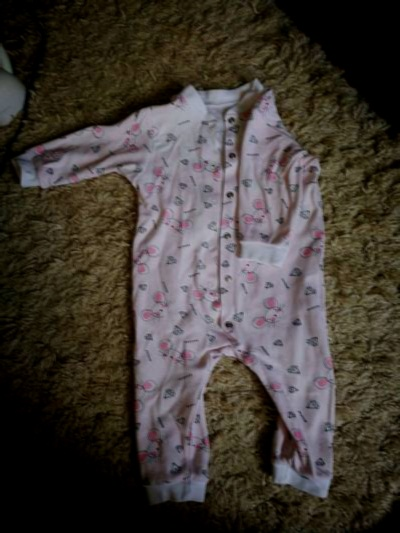Body: (13, 75, 368, 500)
